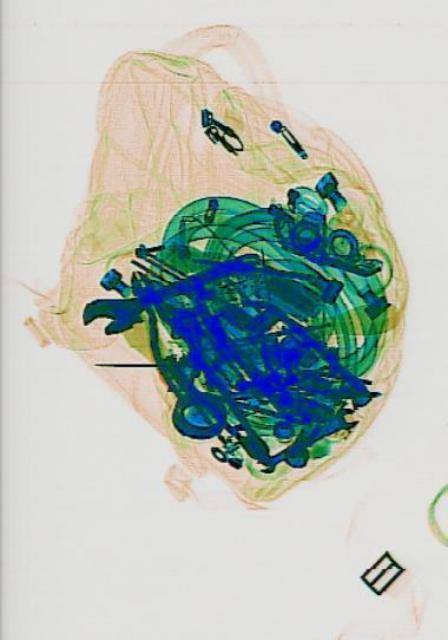Pliers: (113, 250, 217, 412), (173, 344, 277, 478)
Wrench: (77, 233, 262, 344), (252, 402, 357, 474)
